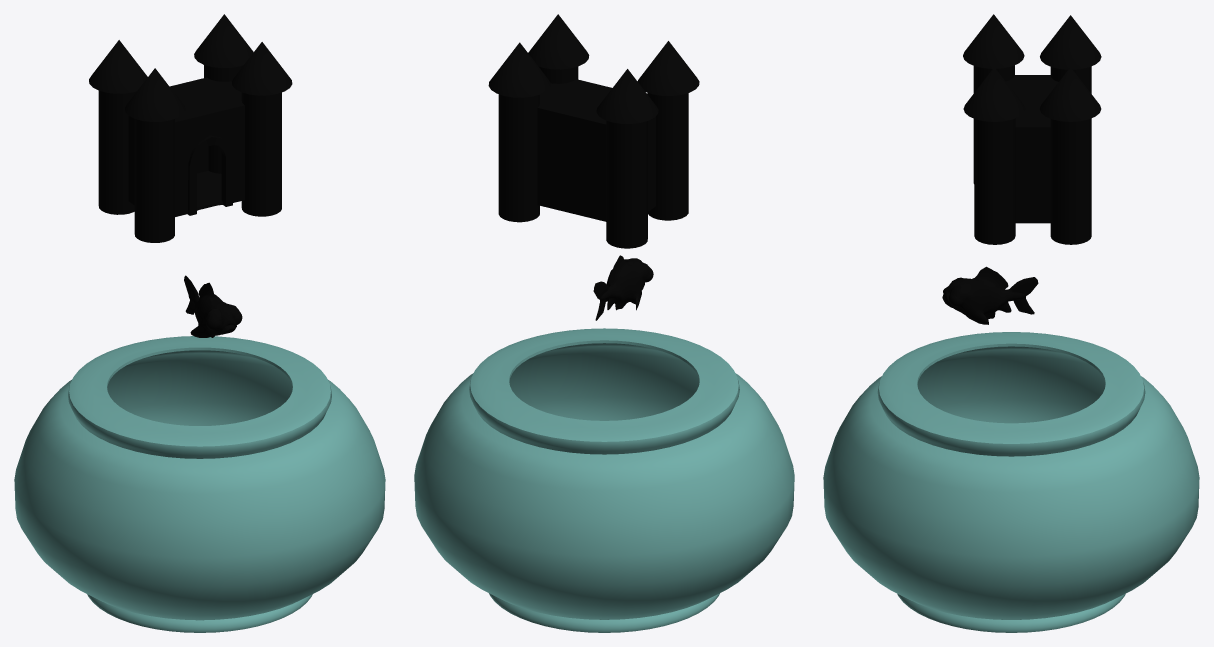
3 views of the same model, side by side, from view 1: azimuth 30°, elevation 25°; view 2: azimuth 150°, elevation 25°; view 3: azimuth 270°, elevation 25° (orthographic). The views are drawn at different scales.
Visible parts, largest first — view 1: bowl, polySurface1, fish polySurface13; view 2: bowl, polySurface1, fish polySurface13; view 3: bowl, polySurface1, fish polySurface13.
Boxes of the visible parts, x1,y1,x2,y2 form: bowl: (14,336,385,632); polySurface1: (89,14,292,242); fish polySurface13: (184,275,240,337); bowl: (414,328,794,632); polySurface1: (488,14,699,248); fish polySurface13: (593,255,651,320); bowl: (823,332,1199,632); polySurface1: (963,14,1101,244); fish polySurface13: (942,266,1038,324).
Size of the model in its own units: 36.53 by 58.57 by 36.53.
